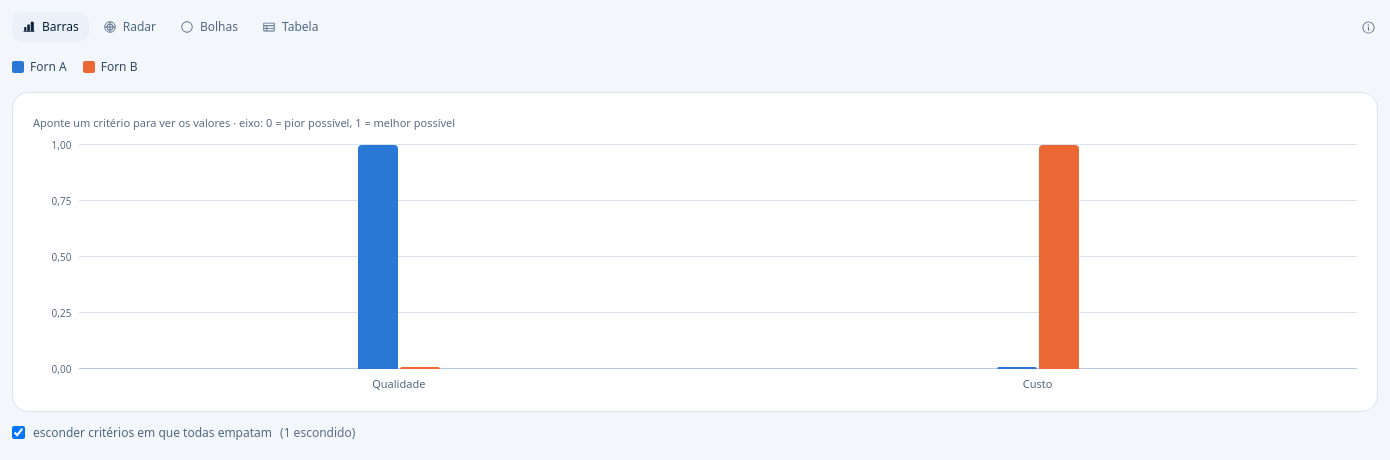
Test: filtro de criterios empatados › mostra todos quando o filtro e desligado
This screenshot has width=1390, height=460.
Click the checkbox labelled "esconder critérios em que todas empatam (1 escondido)" at {"x": 18, "y": 433}, box [12,426,25,439]
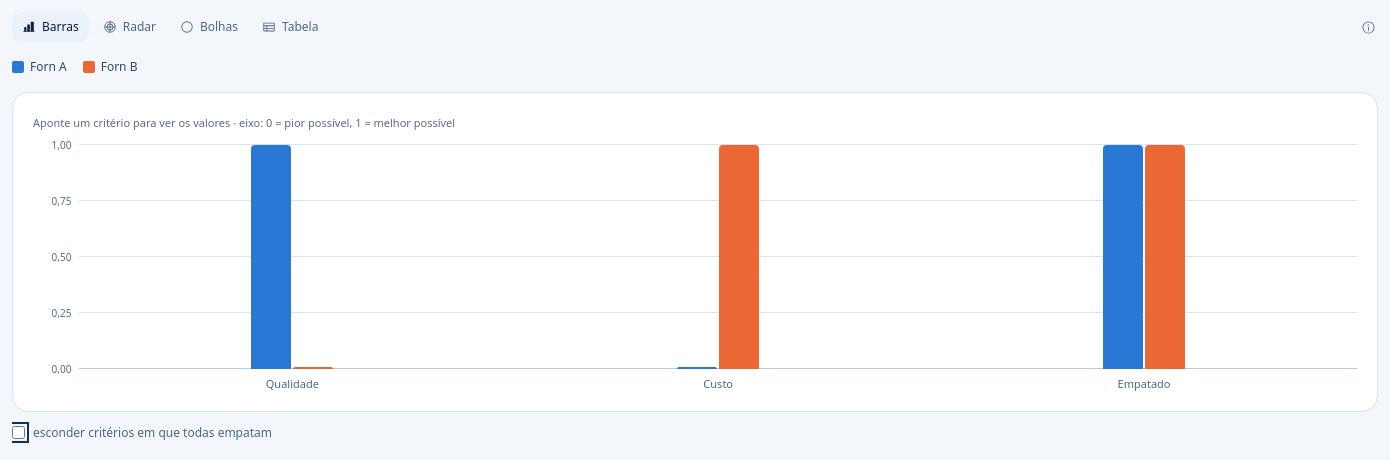
Now the text "escondido" is gone
